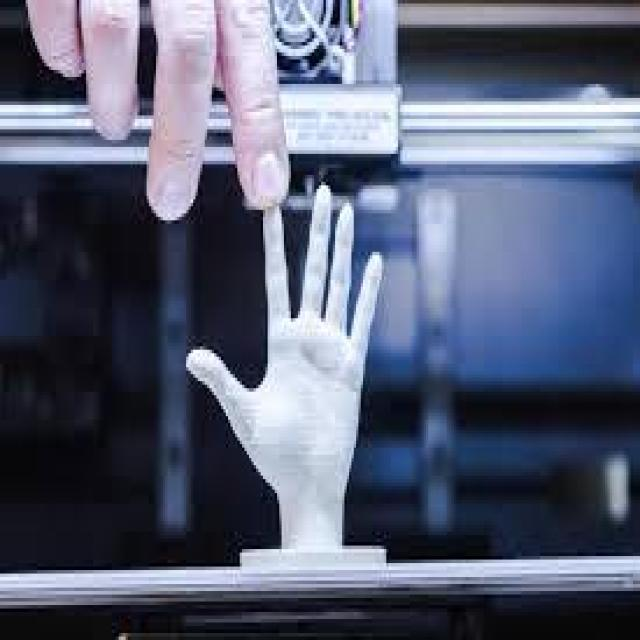Without deffect: (176, 173, 413, 589)
